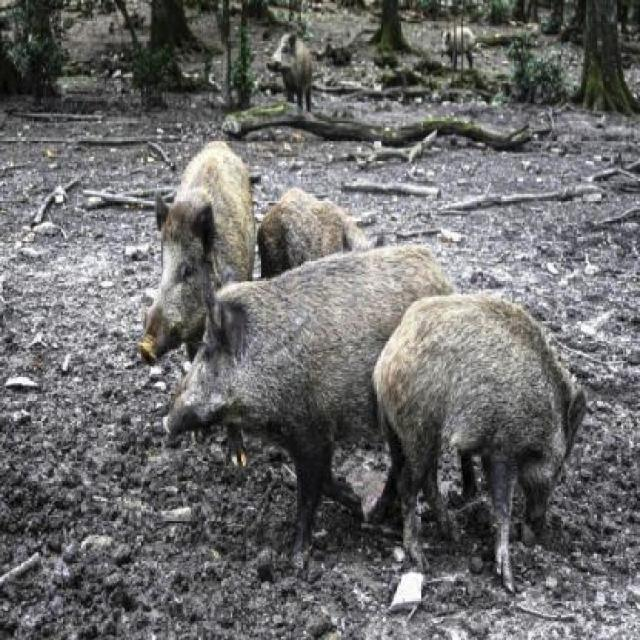wildboar: (159, 243, 472, 532), (374, 286, 588, 599), (132, 136, 258, 412), (254, 179, 368, 324)
